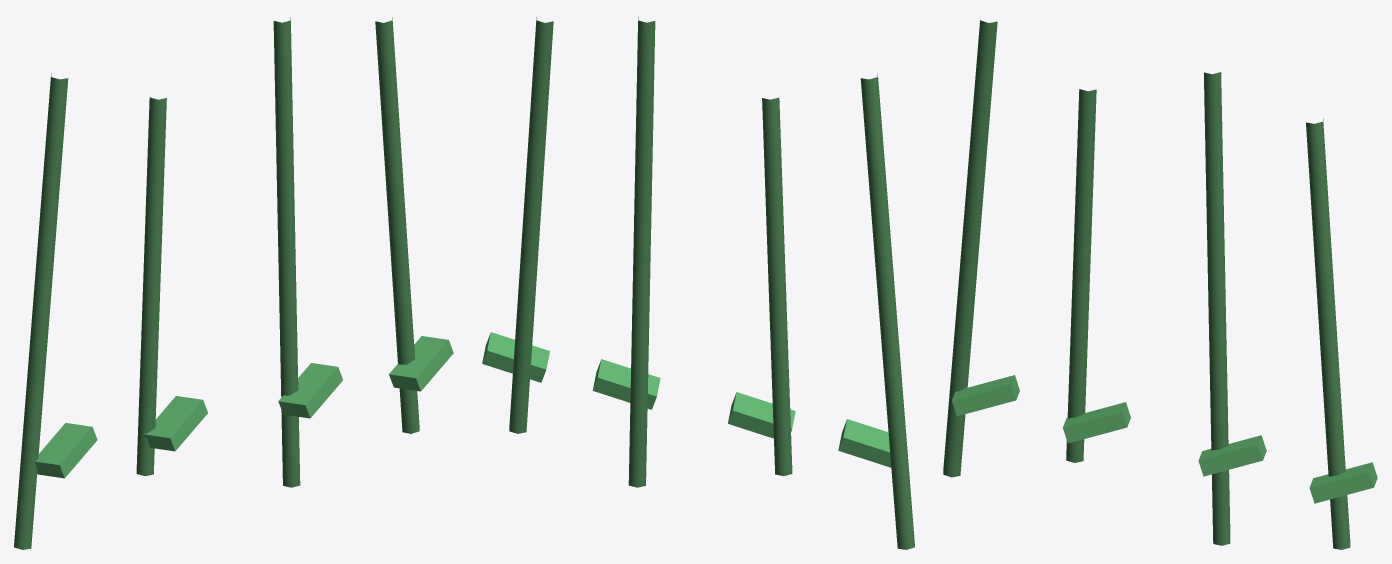
The model's file is vines.glb.
3 renders of one model, left to right at view 1: azimuth 30°, elevation 25°; view 2: azimuth 150°, elevation 25°; view 3: azimuth 330°, elevation 25°, orthographic.
Visible parts, largest first — view 1: vines; view 2: vines; view 3: vines.
Boxes of the visible parts, x1=… form: vines: x1=14, y1=17, x2=453, y2=549; vines: x1=482, y1=16, x2=914, y2=549; vines: x1=943, y1=19, x2=1377, y2=549.
Size of the model in its own units: 1.77 by 1.82 by 0.2017.
